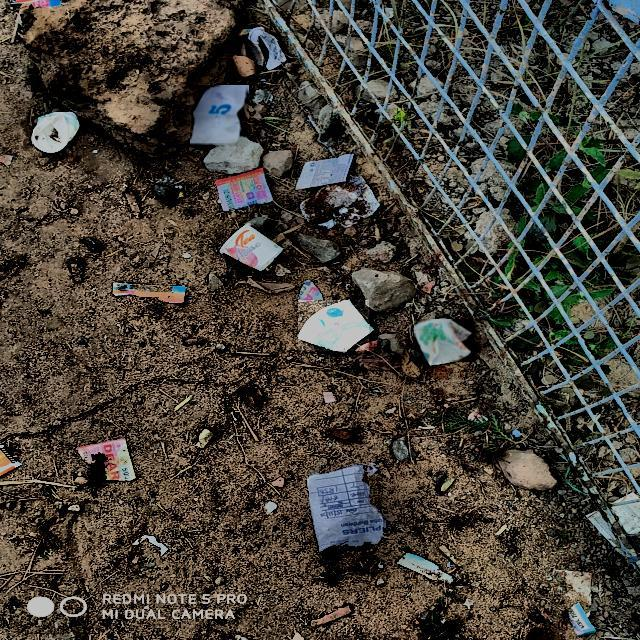anorganik: (298, 300, 369, 351), (415, 319, 478, 362), (33, 113, 83, 154)
organik: (310, 465, 384, 556), (191, 85, 247, 145), (215, 168, 275, 216)
